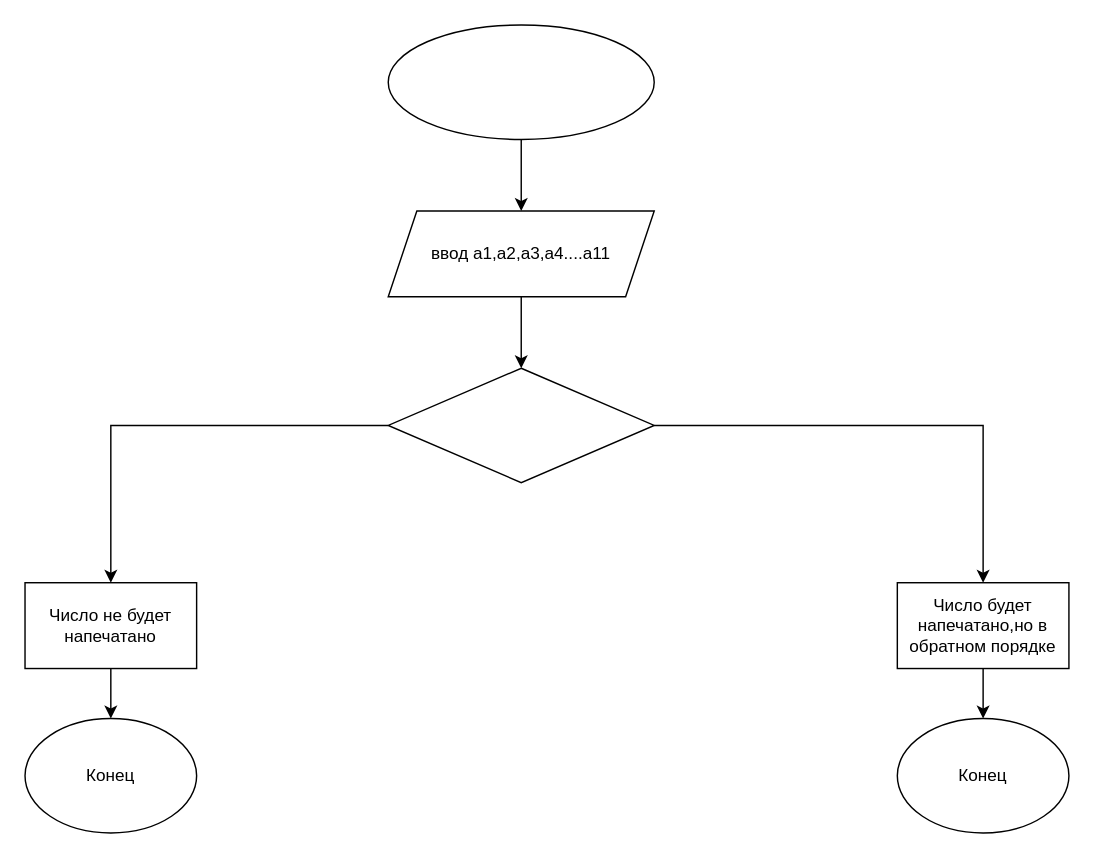
Image size: 1094x858. Some labels were removed from this diagram. The centre of each missing label's shape, as x and y in pixels:
f(a)>=(aqr|x|)+5x^3: (x=520, y=425)
Начало: (x=520, y=81)
